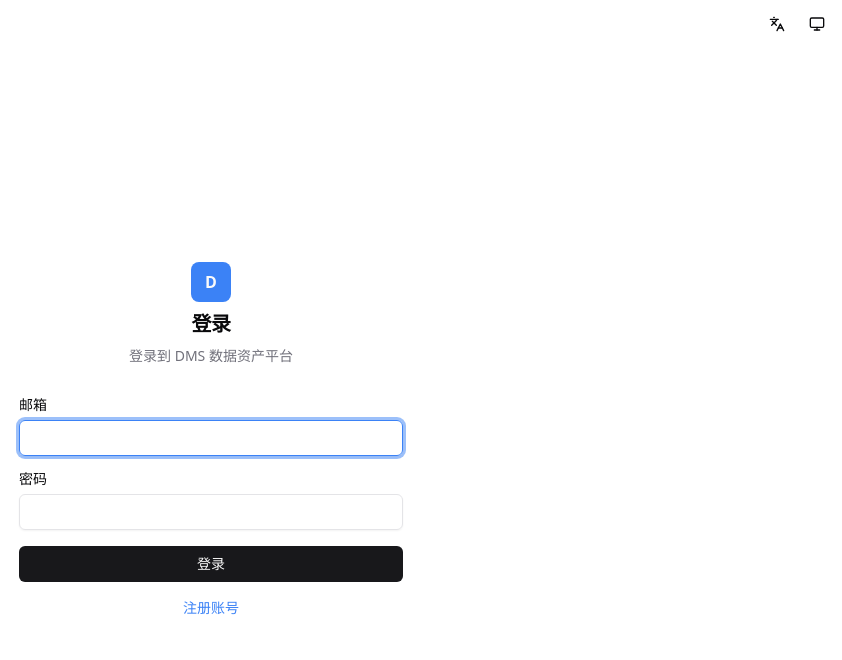
Scenario: LoginPage › asks only for email and password (no tenant field by default)
Click the button "登录" at [211, 564], box [19,546,403,582]
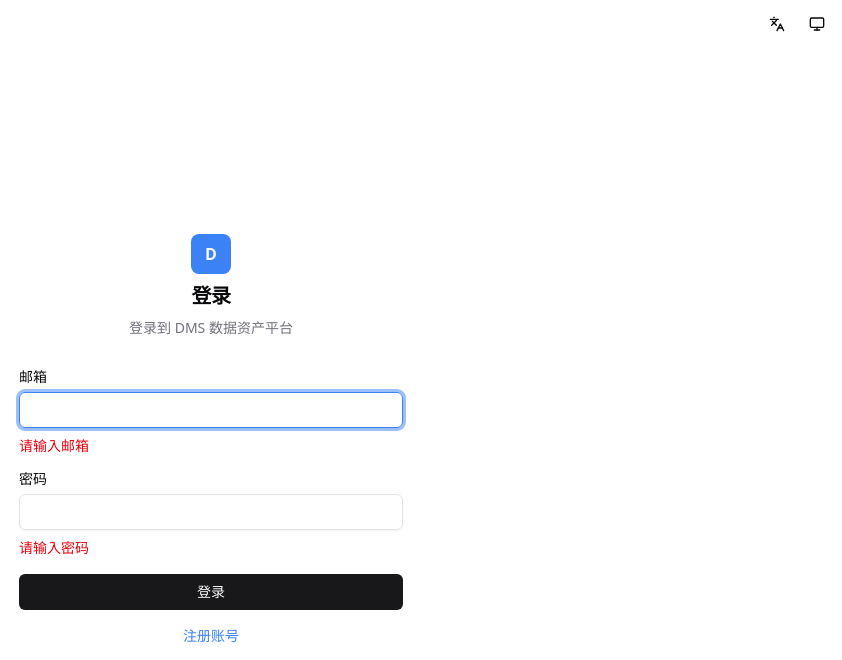
Check: the text "请输入邮箱" is shown, box [19,436,89,455]
Check: the text "请输入密码" is shown, box [19,538,89,557]
